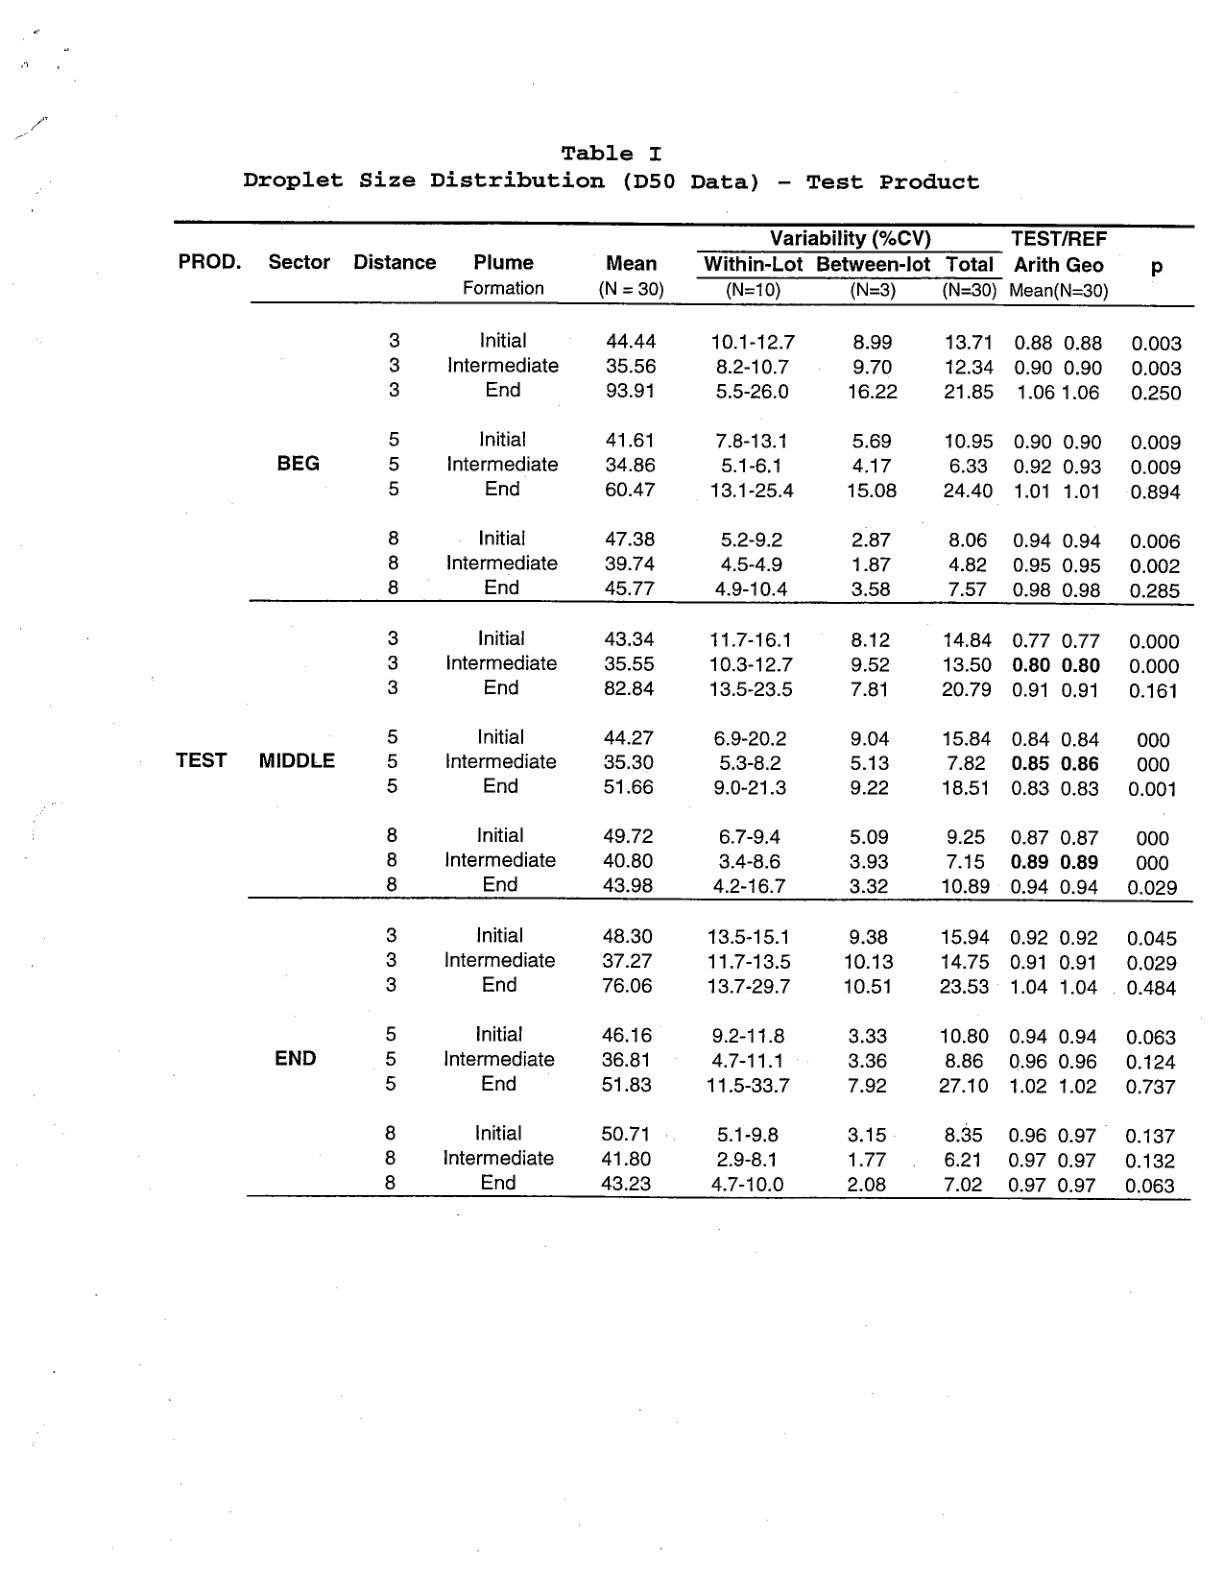partial_lined_merged_cells: (168, 220, 1194, 1202)
